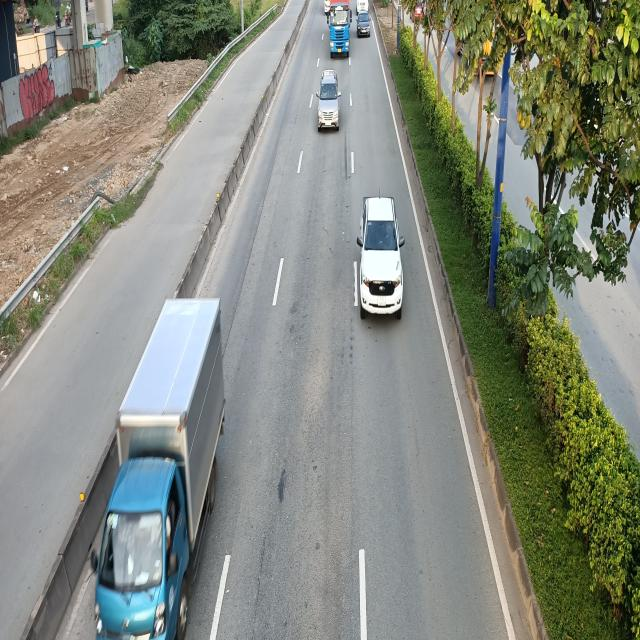car: (86, 302, 224, 640), (355, 194, 403, 317), (316, 70, 341, 132)
container: (330, 0, 352, 59)
